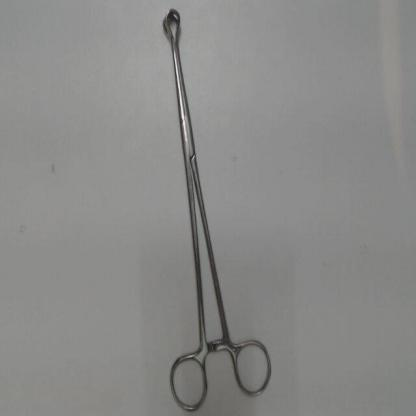8 Babcock Tissue Forceps: (155, 4, 278, 412)
